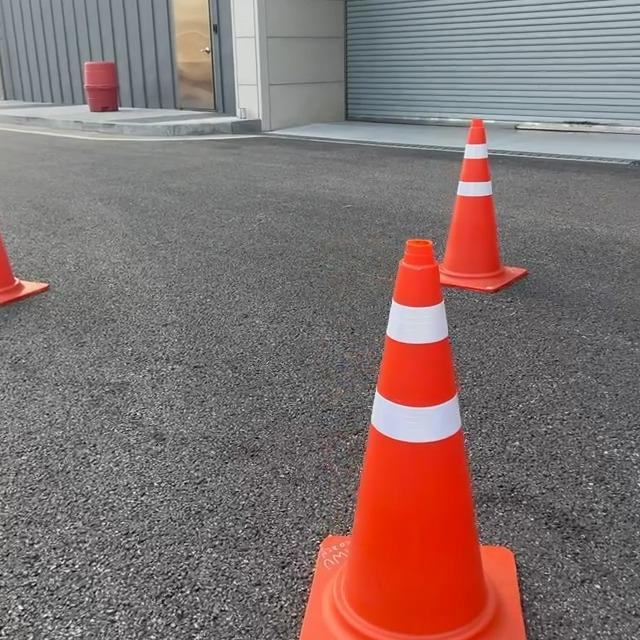fallen_object: (250, 216, 517, 640), (349, 45, 613, 345), (0, 167, 129, 304)
